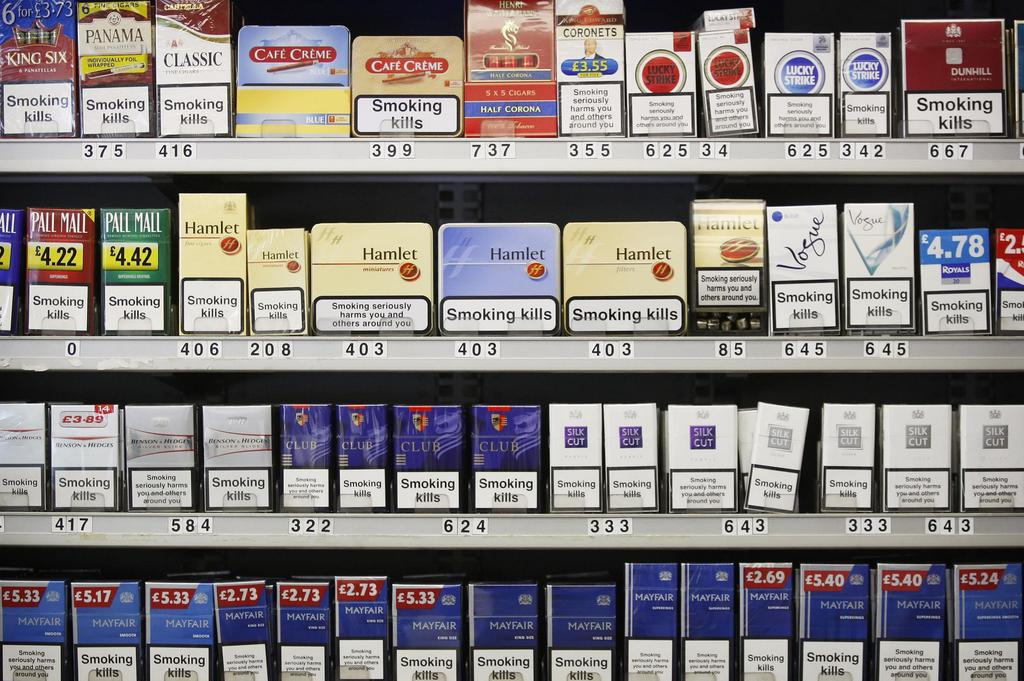lucky_strike_blue: (765, 33, 833, 137), (841, 33, 893, 139)
lucky_strike_red: (627, 33, 695, 137), (703, 31, 752, 131)
